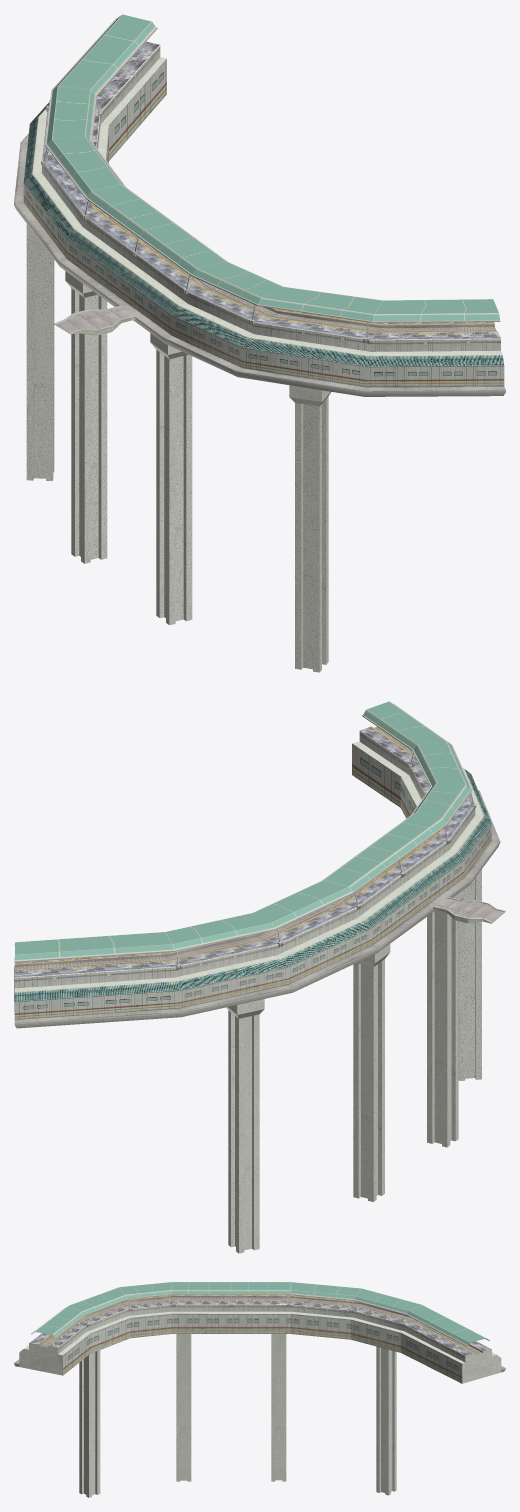
File: train_station_fixed2.FBX
3 renders of one model, top to bottom at view 1: azimuth 30°, elevation 25°; view 2: azimuth 150°, elevation 25°; view 3: azimuth 270°, elevation 25°, orthographic. The views are drawn at different scales.
Parts seen in each view (by area): view 1: lvl3_train_station01, lvl3_train_station_roof01; view 2: lvl3_train_station01, lvl3_train_station_roof01; view 3: lvl3_train_station01, lvl3_train_station_roof01.
Boxes of the visible parts, x1,y1,x2,y2 form: lvl3_train_station01: [14, 41, 505, 672]; lvl3_train_station_roof01: [45, 14, 500, 322]; lvl3_train_station01: [14, 726, 505, 1253]; lvl3_train_station_roof01: [14, 701, 472, 962]; lvl3_train_station01: [14, 1295, 505, 1497]; lvl3_train_station_roof01: [31, 1282, 489, 1346].
Size of the model in its own units: 56024 by 57872 by 129076.
